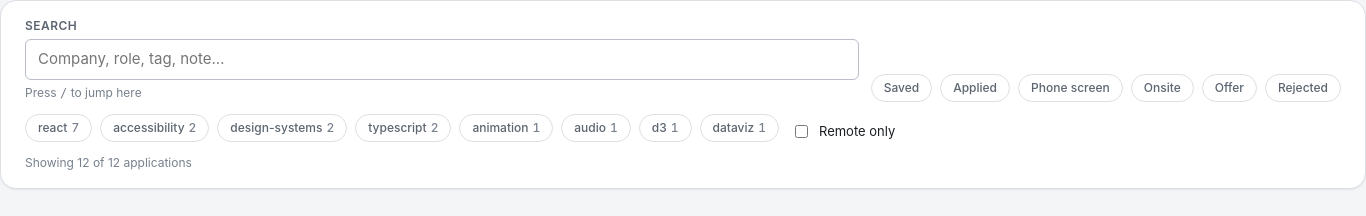
Test: FilterBar › filters by tag
expect the text "Showing 12 of 12 applications" is shown: met, box left=25, top=154, right=192, bottom=170
Click the button "accessibility 2".
click(155, 128)  # box left=100, top=114, right=209, bottom=142
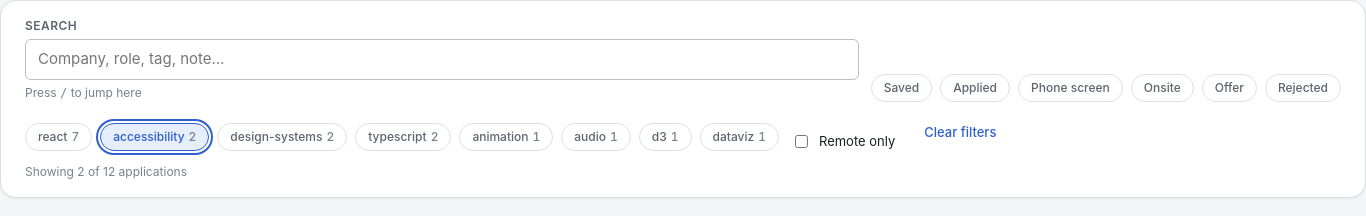
expect the message shows "Showing 2 of 12": met, box left=25, top=164, right=187, bottom=179
